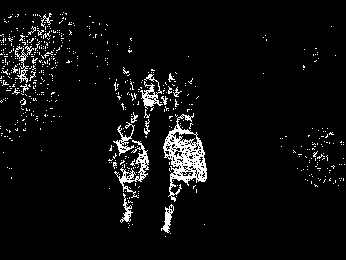person: (162, 113, 208, 236), (109, 120, 149, 228), (136, 66, 164, 137), (114, 64, 140, 122), (179, 74, 202, 131), (160, 71, 181, 128)
